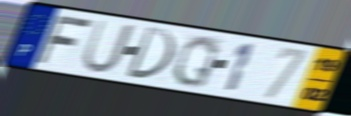1: (227, 43, 256, 94)
7: (262, 44, 313, 101)
D: (122, 25, 177, 82)
F: (34, 13, 96, 65)
Q: (170, 34, 222, 90)
U: (79, 18, 137, 75)
